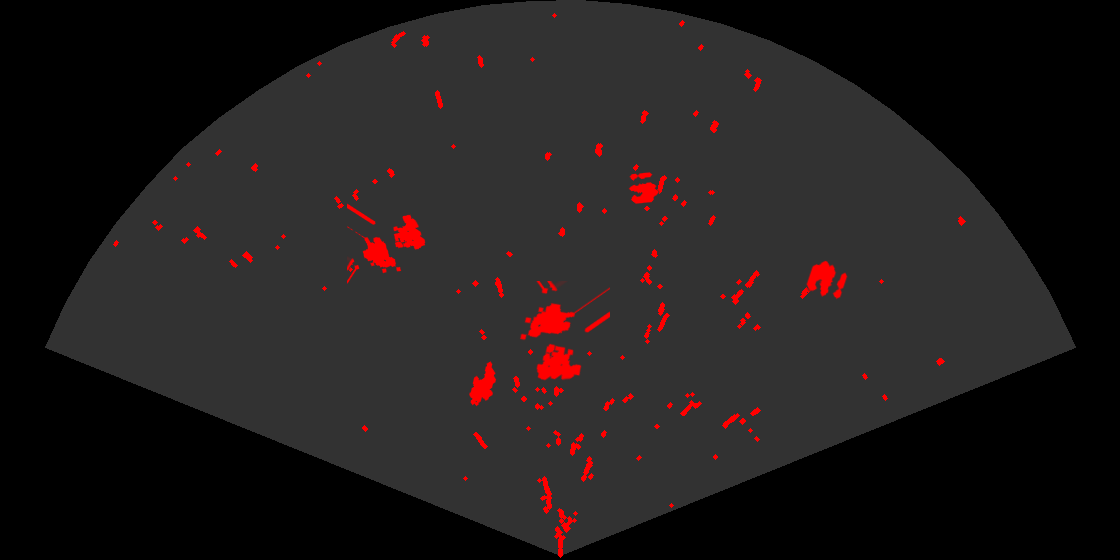AUV: (468, 360, 498, 408)
ball: (805, 259, 849, 301), (627, 171, 660, 205)
cage: (518, 281, 610, 382), (347, 202, 427, 285)
